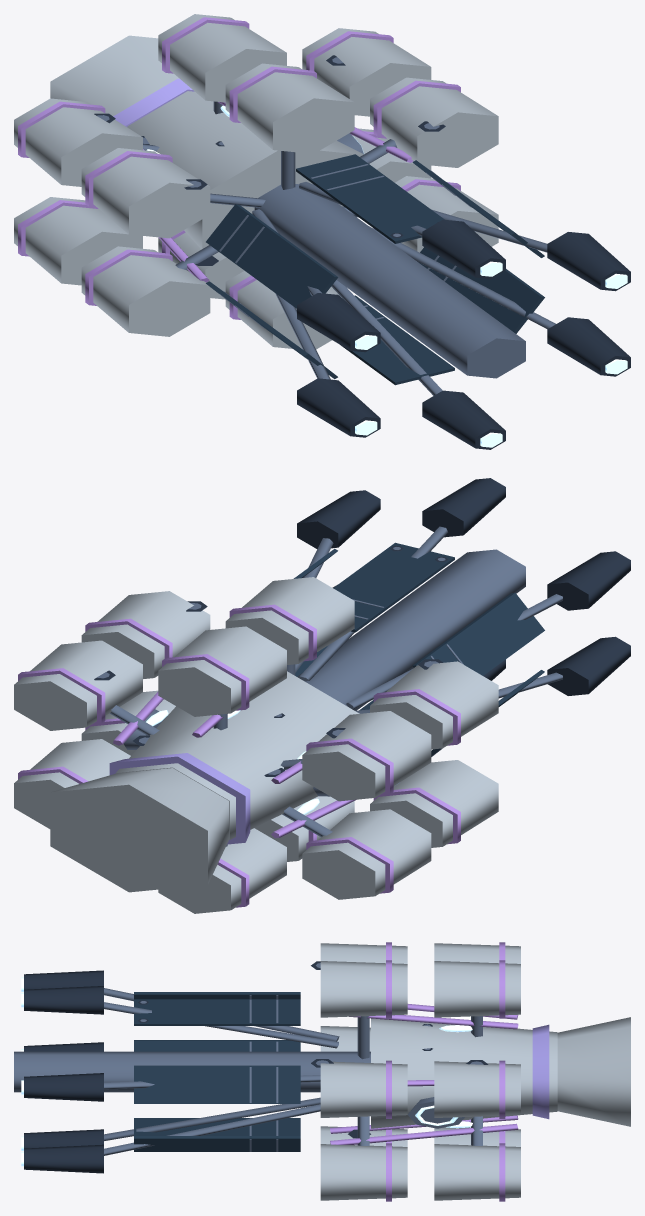
Rendered from cryogenic_hydrocarbon--bulk_freighter--lod1.glb.
The picture shows the model from 3 angles, top to bottom: view 1: azimuth 30°, elevation 25°; view 2: azimuth 150°, elevation 25°; view 3: azimuth 270°, elevation 25°; orthographic projection. The views are drawn at different scales.
Visible parts, largest first — view 1: thermal_isolation_spine_1, cold_habitat_lantern_2, cryofreight_lantern_75, cryofreight_lantern_87, cryofreight_lantern_90, cryofreight_lantern_78, cryofreight_lantern_57, cryofreight_lantern_72, cryofreight_lantern_69, heat_rejection_fin_49, forward_ice_cap_3, heat_rejection_fin_9 (+28 smaller); view 2: forward_ice_cap_3, cold_habitat_lantern_2, thermal_isolation_spine_1, cryofreight_lantern_69, cryofreight_lantern_57, cryofreight_lantern_72, cryofreight_lantern_60, cryofreight_lantern_75, cryofreight_lantern_90, cryofreight_lantern_87, cryofreight_lantern_78, cryofreight_lantern_66 (+22 smaller); view 3: cold_habitat_lantern_2, thermal_isolation_spine_1, forward_ice_cap_3, heat_rejection_fin_17, cryofreight_lantern_75, cryofreight_lantern_57, cryofreight_lantern_63, cryofreight_lantern_81, cryofreight_lantern_78, cryofreight_lantern_60, heat_rejection_fin_9, heat_rejection_fin_25 (+28 smaller).
Boxes of the visible parts, box(x1,y1,x2,y2) form: thermal_isolation_spine_1: box(254, 184, 525, 378); cold_habitat_lantern_2: box(127, 91, 363, 252); cryofreight_lantern_75: box(225, 63, 354, 153); cryofreight_lantern_87: box(81, 246, 210, 336); cryofreight_lantern_90: box(81, 148, 210, 238); cryofreight_lantern_78: box(370, 77, 498, 167); cryofreight_lantern_57: box(158, 14, 286, 102); cryofreight_lantern_72: box(14, 98, 142, 186); cryofreight_lantern_69: box(14, 197, 142, 285); heat_rejection_fin_49: box(206, 204, 338, 308); forward_ice_cap_3: box(50, 35, 179, 116); heat_rejection_fin_9: box(296, 154, 444, 243); forward_ice_cap_3: box(50, 768, 229, 892); cold_habitat_lantern_2: box(115, 671, 359, 839); thermal_isolation_spine_1: box(297, 549, 525, 710); cryofreight_lantern_69: box(302, 809, 431, 899); cryofreight_lantern_57: box(158, 626, 286, 716); cryofreight_lantern_72: box(302, 711, 431, 801); cryofreight_lantern_60: box(14, 640, 142, 730); cryofreight_lantern_75: box(225, 577, 354, 664); cryofreight_lantern_90: box(370, 661, 498, 749); cryofreight_lantern_87: box(370, 760, 498, 847); cryofreight_lantern_78: box(81, 591, 210, 678); cryofreight_lantern_66: box(158, 828, 286, 913); cold_habitat_lantern_2: box(371, 1018, 557, 1128); thermal_isolation_spine_1: box(14, 1051, 370, 1092); forward_ice_cap_3: box(557, 1017, 630, 1126); heat_rejection_fin_17: box(134, 1065, 300, 1103); cryofreight_lantern_75: box(320, 961, 407, 1017); cryofreight_lantern_57: box(434, 961, 520, 1017); cryofreight_lantern_63: box(434, 1144, 520, 1200); cryofreight_lantern_81: box(320, 1144, 407, 1200); cryofreight_lantern_78: box(320, 1061, 407, 1117); cryofreight_lantern_60: box(434, 1061, 520, 1117); heat_rejection_fin_9: box(134, 999, 300, 1025); heat_rejection_fin_25: box(134, 1136, 300, 1151).
Size of the model in its own units: 380 by 248 by 650.
